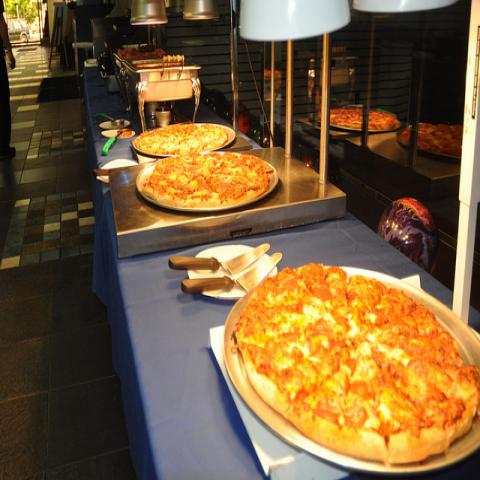car: (6, 19, 30, 41)
